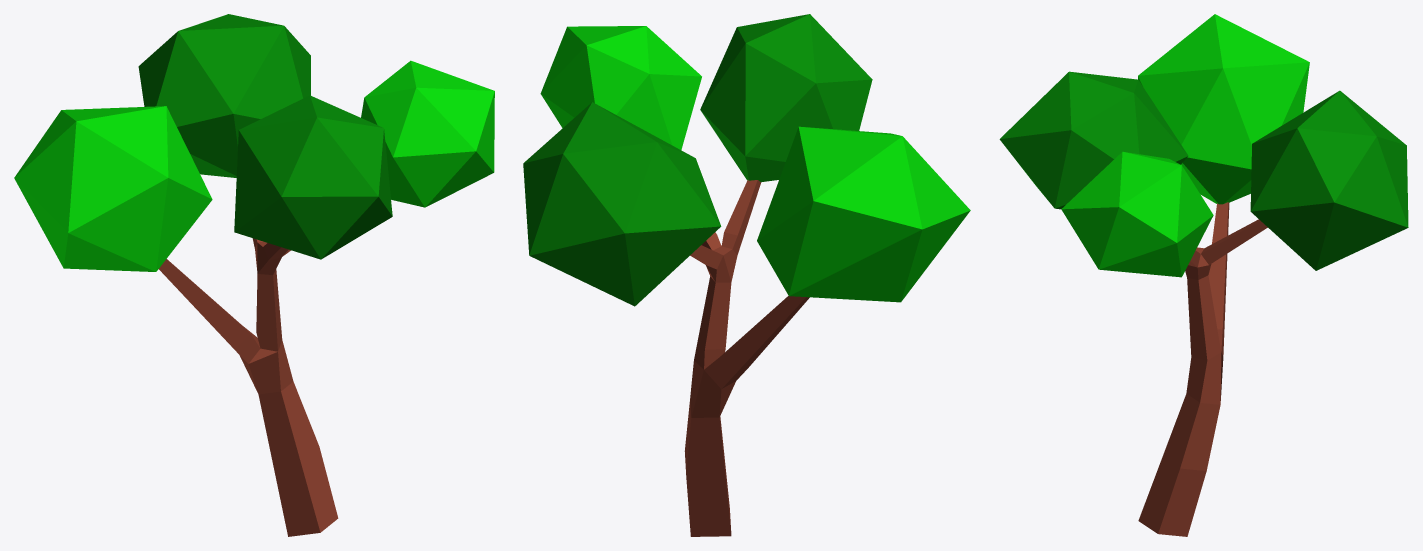
Rendered from tree_1b.fbx.
3 views of the same model, side by side, from view 1: azimuth 30°, elevation 25°; view 2: azimuth 150°, elevation 25°; view 3: azimuth 270°, elevation 25° (orthographic). The views are drawn at different scales.
Parts seen in each view (by area): view 1: tree_1b; view 2: tree_1b; view 3: tree_1b.
Part boxes in pixels (x1,y1,x2,y2): tree_1b: (14,14,494,536); tree_1b: (523,14,970,536); tree_1b: (999,14,1408,536).
Size of the model in its own units: 612 by 662 by 556.
